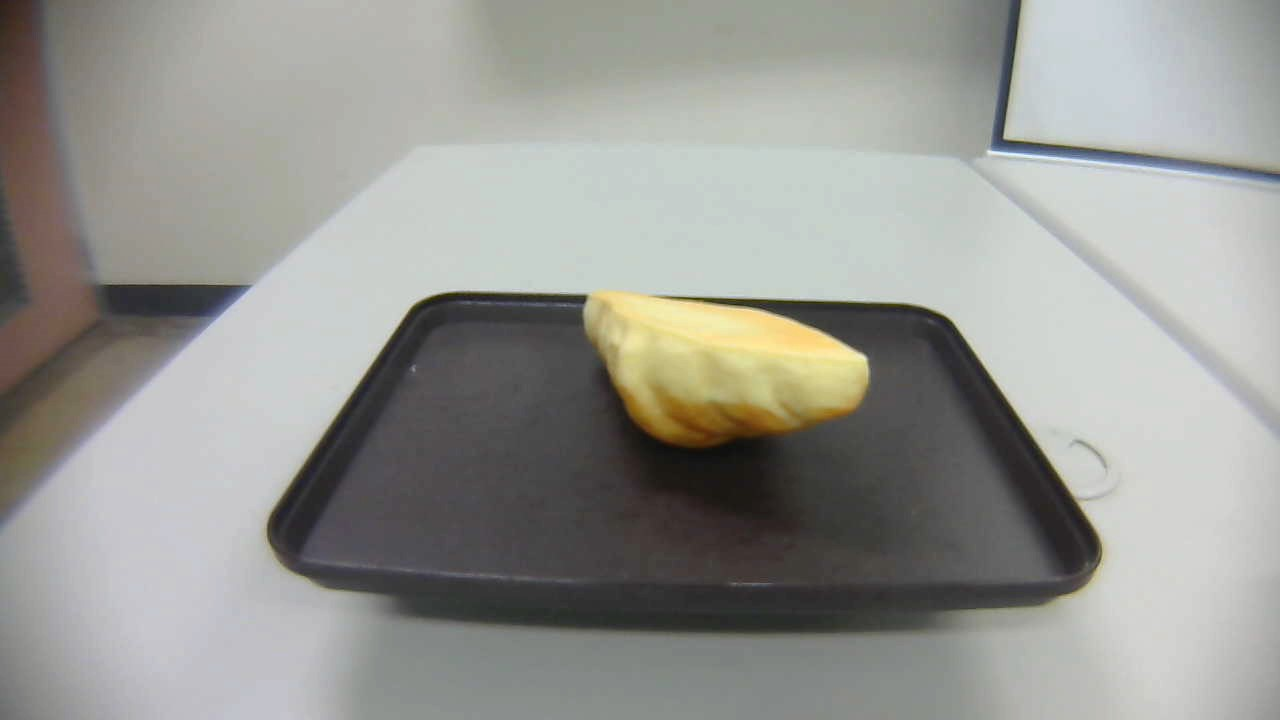croissant: (579, 287, 871, 448)
